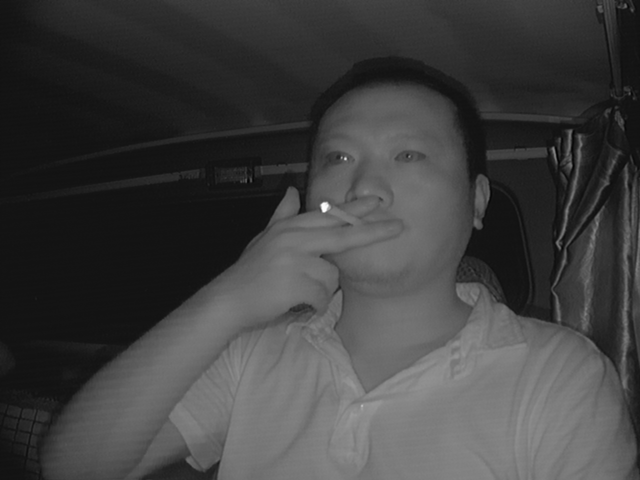hand: (295, 191, 397, 313)
